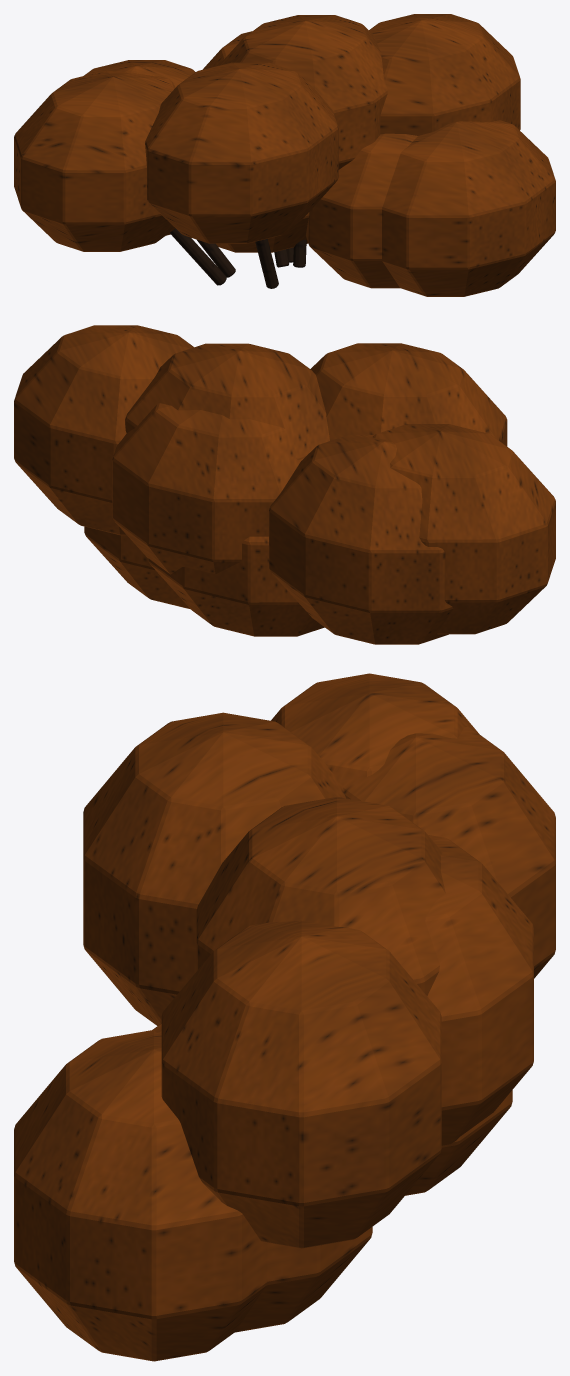
File: PROP-ADD27719D27D_lod1.glb
The picture shows the model from 3 angles, top to bottom: view 1: azimuth 30°, elevation 25°; view 2: azimuth 150°, elevation 25°; view 3: azimuth 270°, elevation 25°; orthographic projection. The views are drawn at different scales.
Parts seen in each view (by area): view 1: foliage.008, plant_stem.008; view 2: foliage.008; view 3: foliage.008.
Part boxes in pixels (<box>): foliage.008: <box>14,14,555,296</box>; plant_stem.008: <box>170,228,306,288</box>; foliage.008: <box>14,325,555,644</box>; foliage.008: <box>14,673,555,1361</box>.
Size of the model in its own units: 1.46 by 0.7568 by 0.8399.
Materials: 2 (2 with a texture image).
